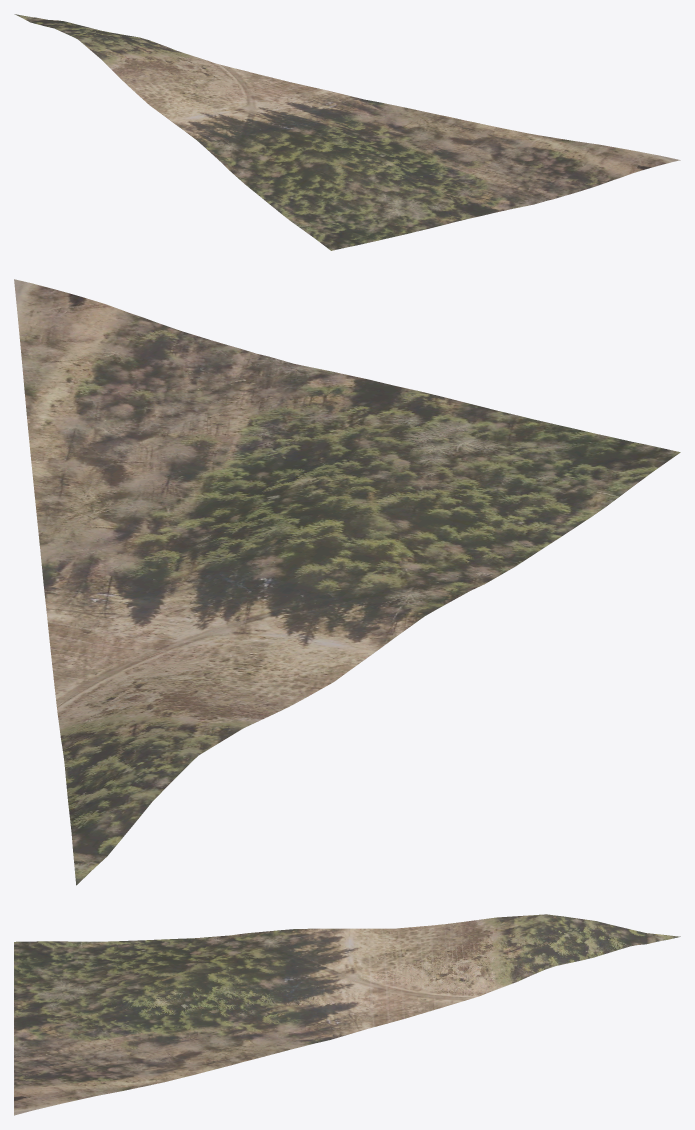
The model's file is CM_Terrain_24493940_6816517.fbx.
3 renders of one model, top to bottom at view 1: azimuth 30°, elevation 25°; view 2: azimuth 150°, elevation 25°; view 3: azimuth 270°, elevation 25°, orthographic. The views are drawn at different scales.
Parts seen in each view (by area): view 1: CM_Terrain_24493940_6816517_LOD0; view 2: CM_Terrain_24493940_6816517_LOD0; view 3: CM_Terrain_24493940_6816517_LOD0.
Boxes of the visible parts, x1,y1,x2,y2 form: CM_Terrain_24493940_6816517_LOD0: (14, 14, 680, 250); CM_Terrain_24493940_6816517_LOD0: (14, 279, 680, 885); CM_Terrain_24493940_6816517_LOD0: (14, 914, 680, 1115).
Size of what is drawn, in the model's own units: 127 by 10.35 by 200.
